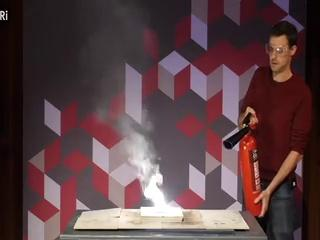Fire: (137, 160, 173, 216)
